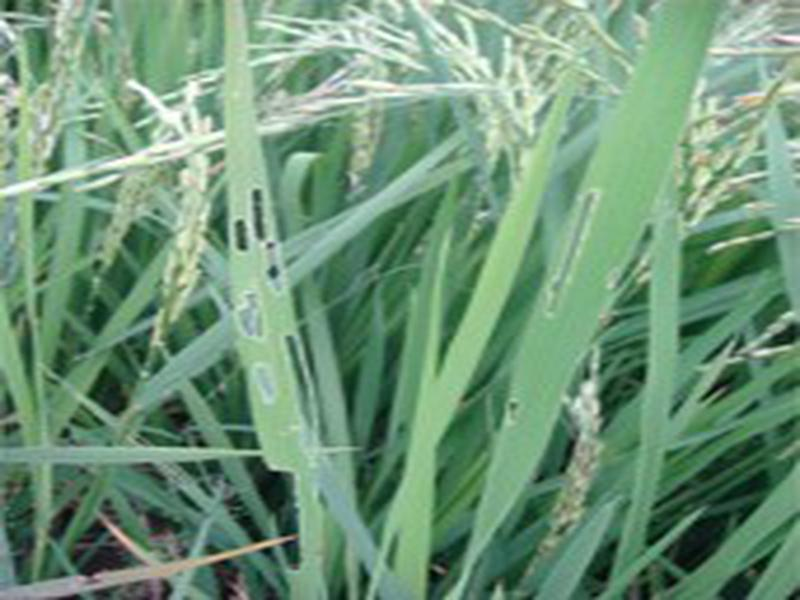Rice_horned_caterpillar: (204, 177, 317, 484), (521, 370, 622, 595)
